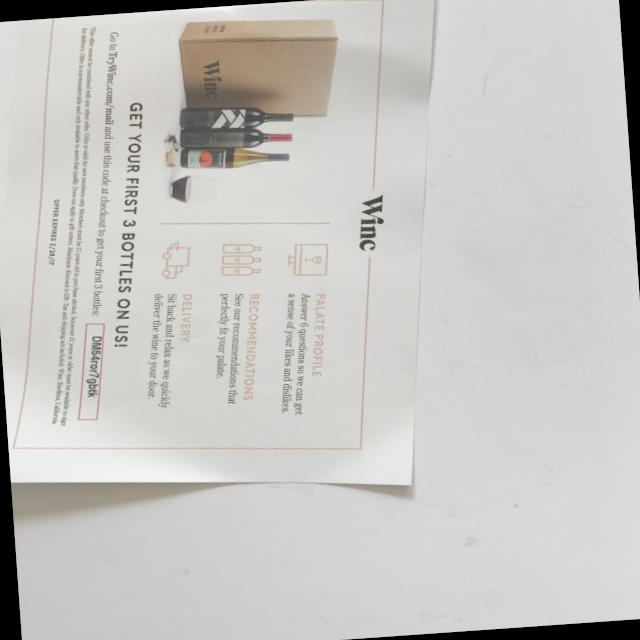Paper: (0, 0, 499, 525)
